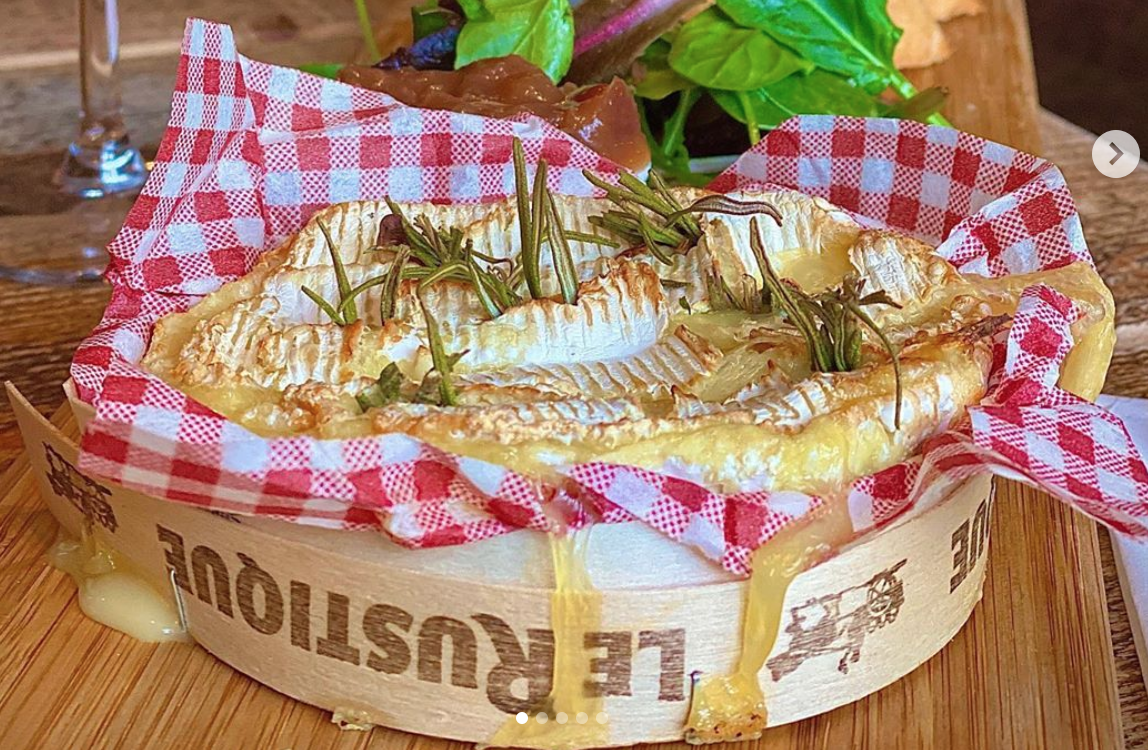camembert: (139, 180, 1013, 609)
